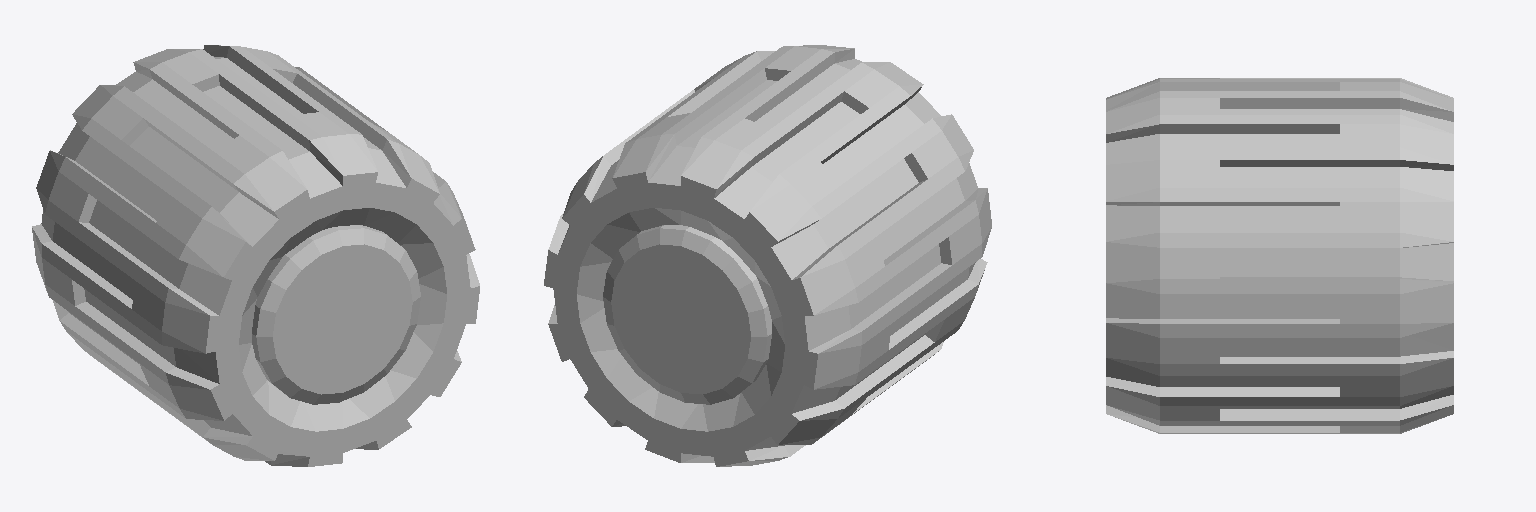
The model's file is fant_offroad_wheel_large_6.obj.
3 views of the same model, side by side, from view 1: azimuth 30°, elevation 25°; view 2: azimuth 150°, elevation 25°; view 3: azimuth 270°, elevation 25° (orthographic).
Parts seen in each view (by area): view 1: fant_wheel_large_2_Mesh; view 2: fant_wheel_large_2_Mesh; view 3: fant_wheel_large_2_Mesh.
Boxes of the visible parts, <box> form: fant_wheel_large_2_Mesh: <box>32,45,479,466</box>; fant_wheel_large_2_Mesh: <box>544,45,991,466</box>; fant_wheel_large_2_Mesh: <box>1106,78,1453,433</box>.
Bounding box in the file's own units: 1.03 × 1.03 × 1.